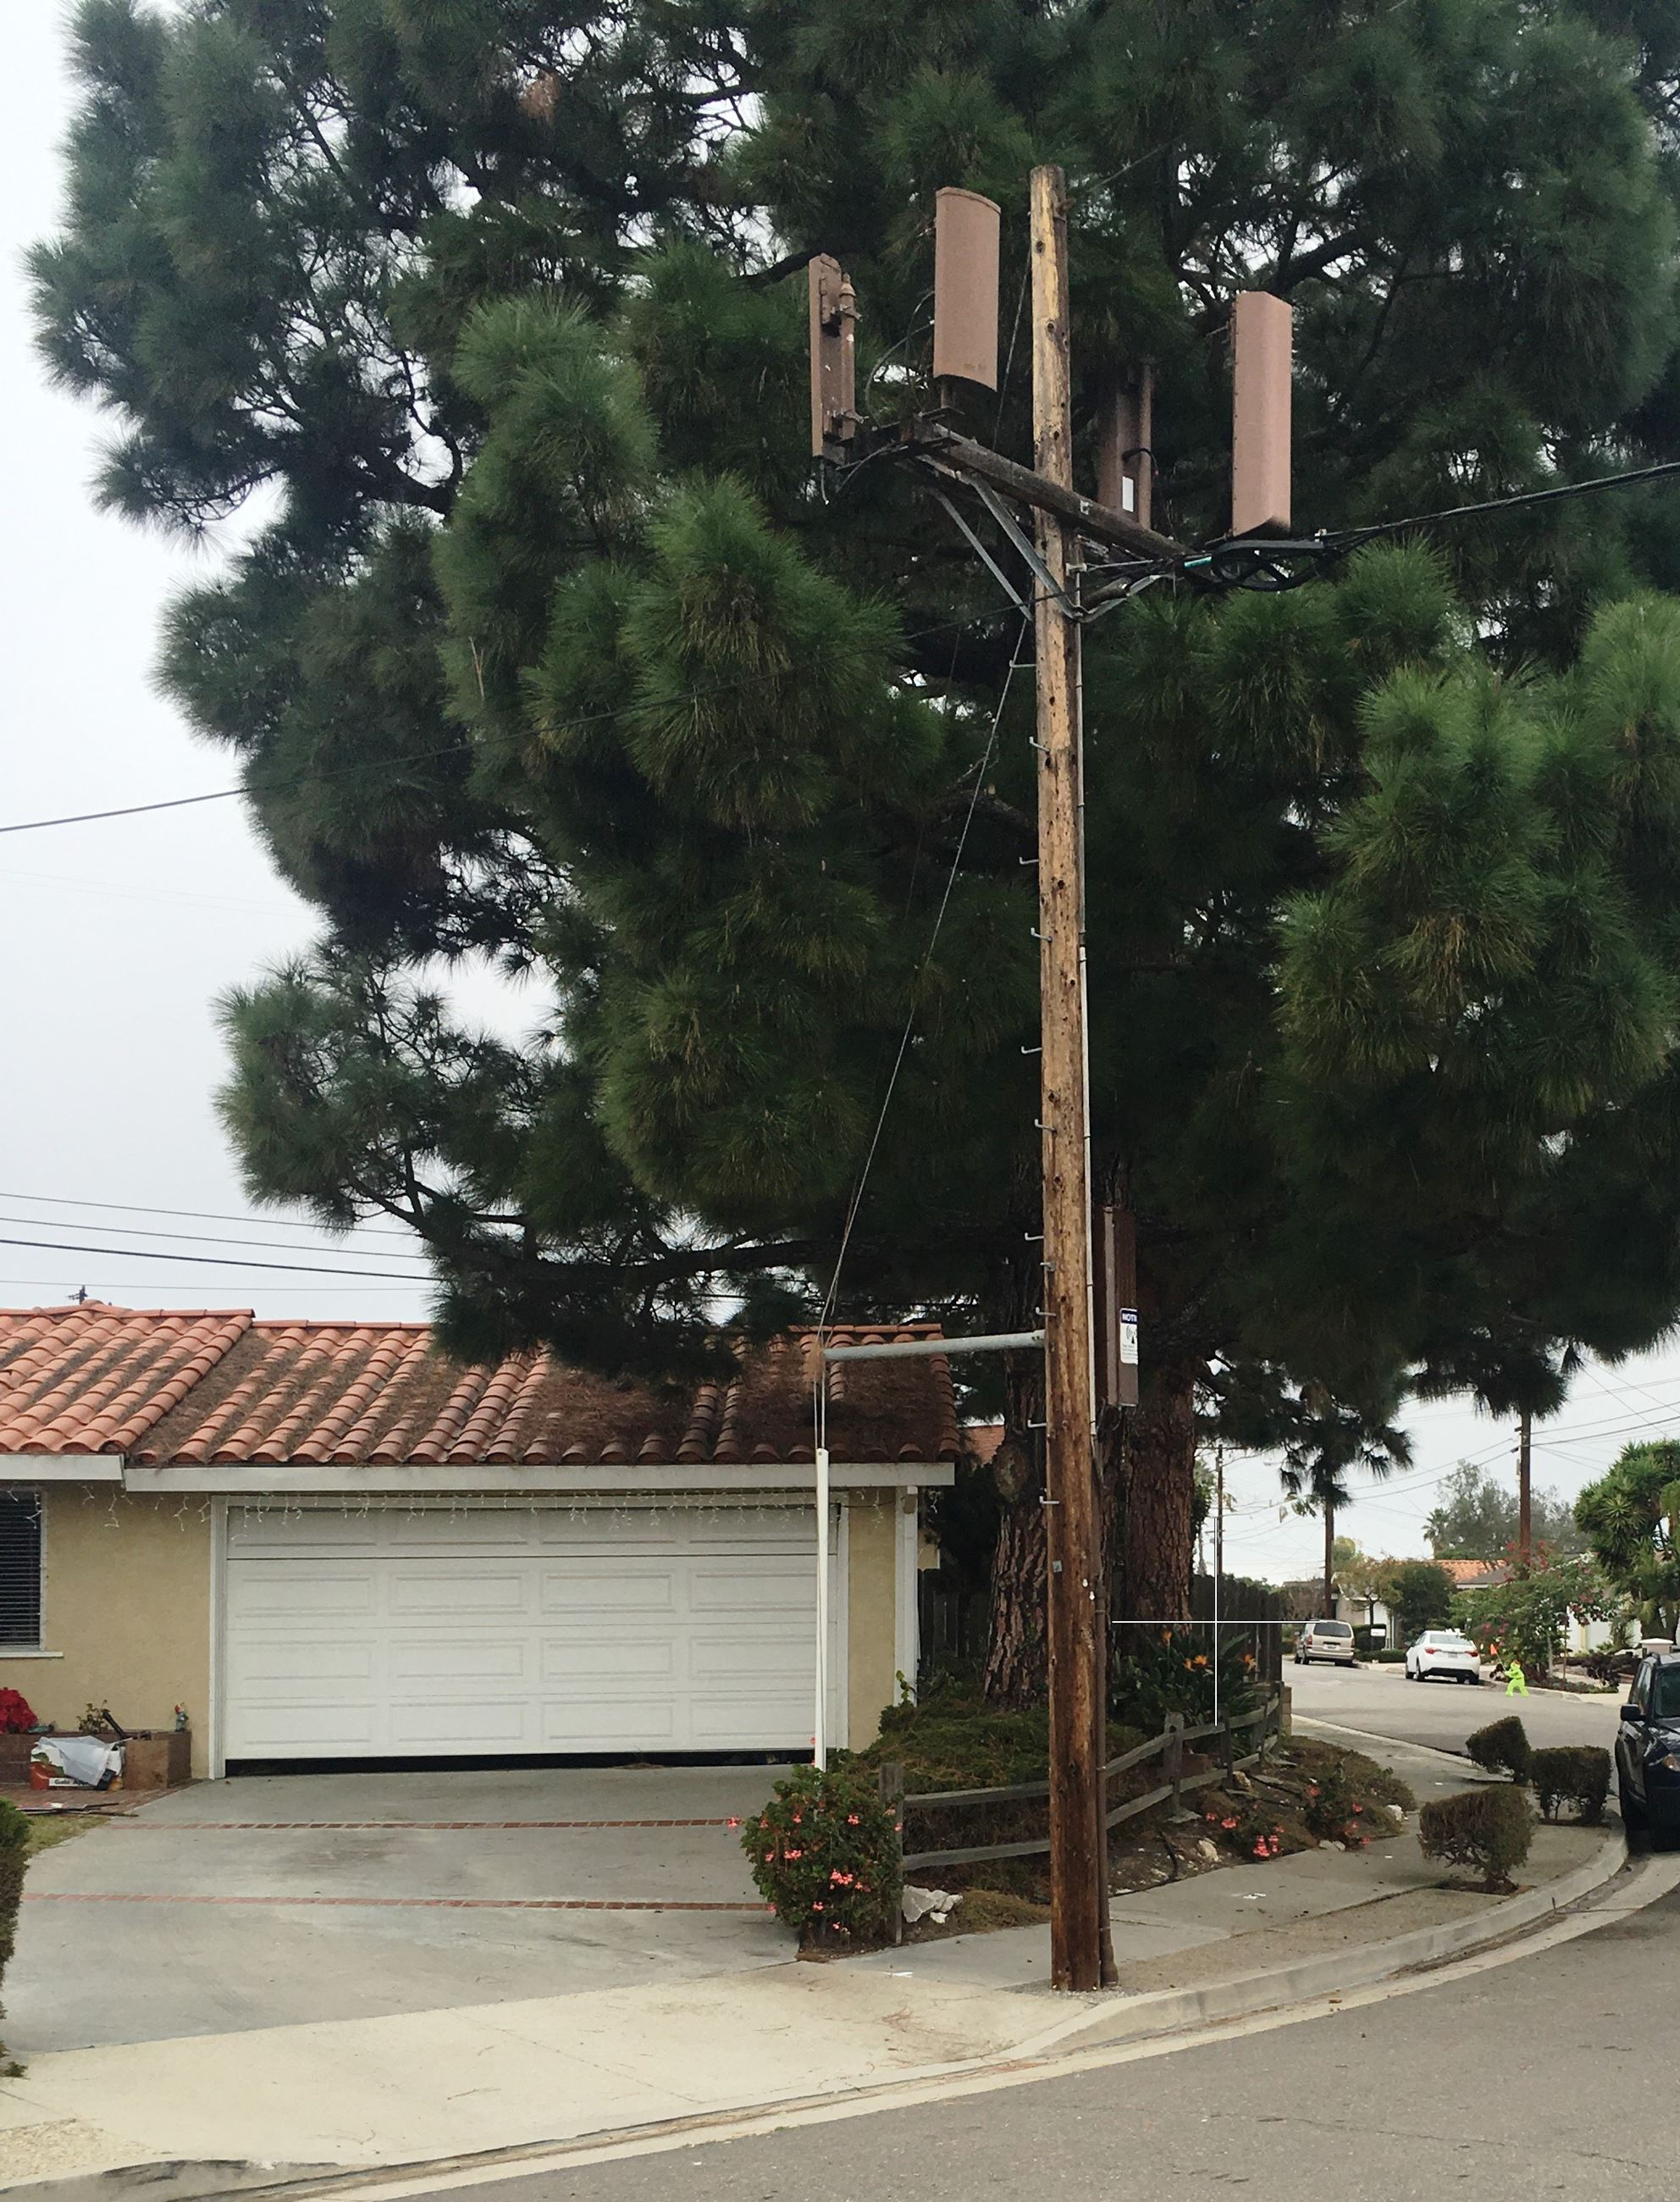pole: (722, 160, 1374, 2015)
